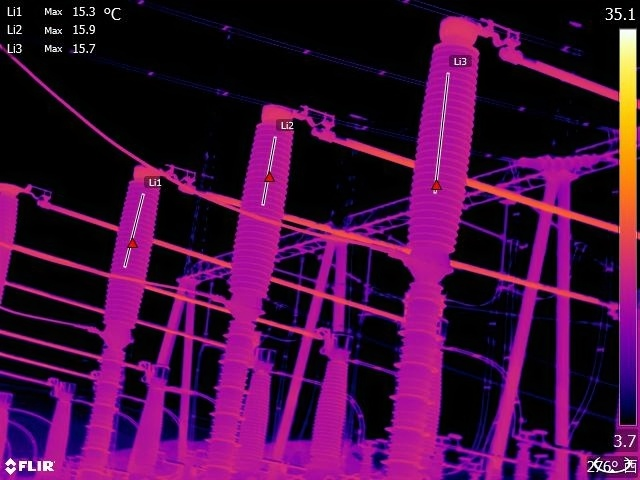circuit breaker: (380, 1, 494, 480), (204, 80, 306, 480), (79, 147, 165, 480), (1, 164, 27, 329)
current transformer: (308, 313, 360, 480), (229, 340, 281, 480), (130, 348, 170, 480), (28, 371, 75, 480), (1, 382, 16, 466)
insulator: (514, 144, 604, 171)
